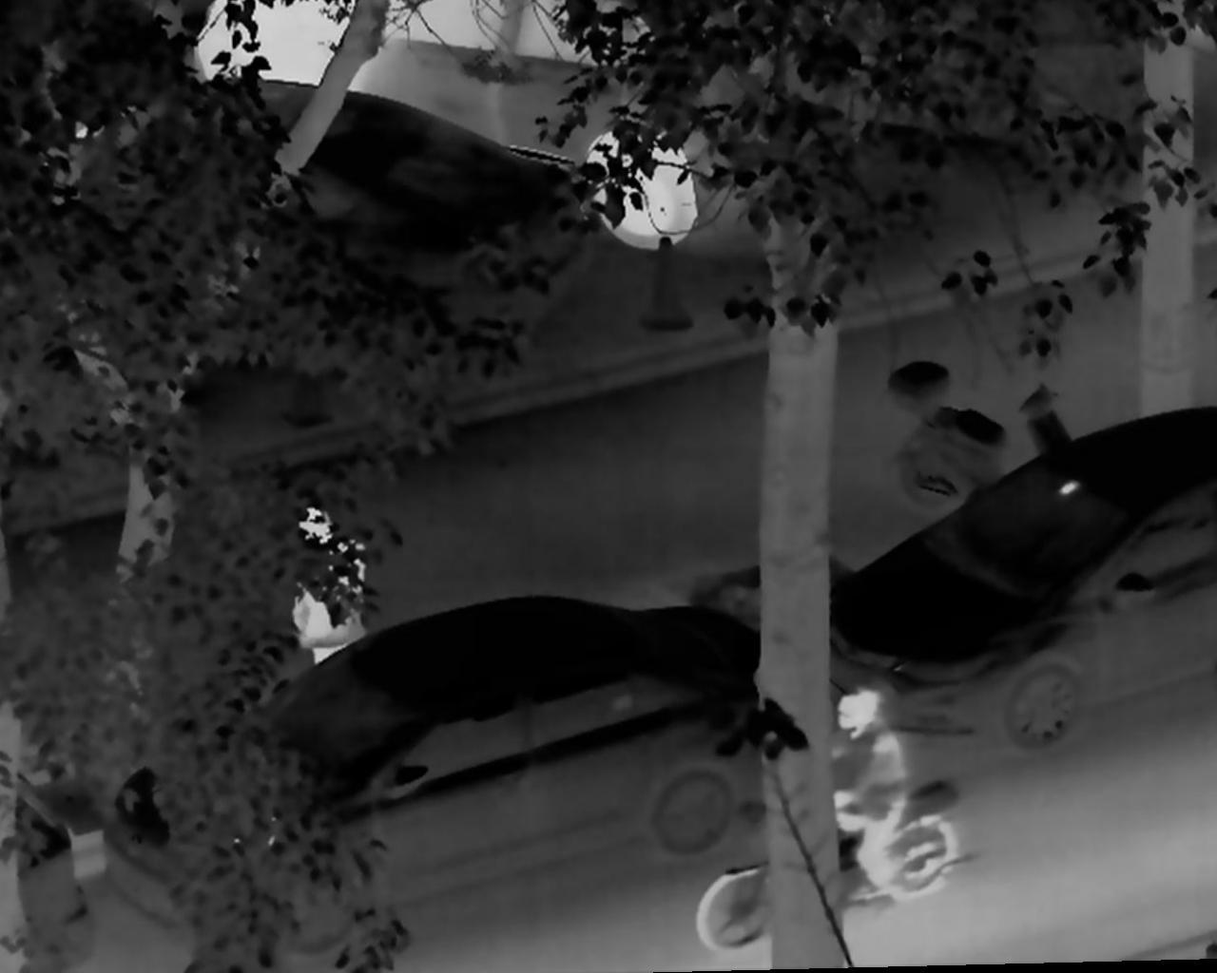person: (821, 682, 911, 909), (285, 500, 373, 671)
